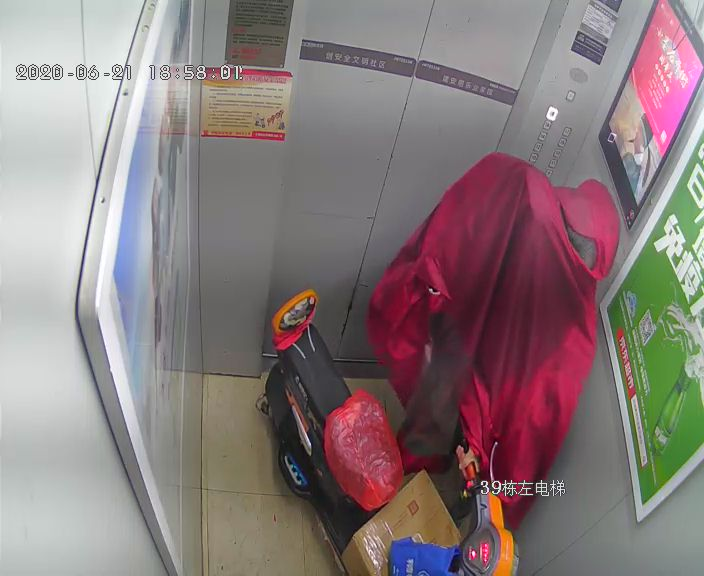Electric-bicycle: (267, 289, 526, 568)
